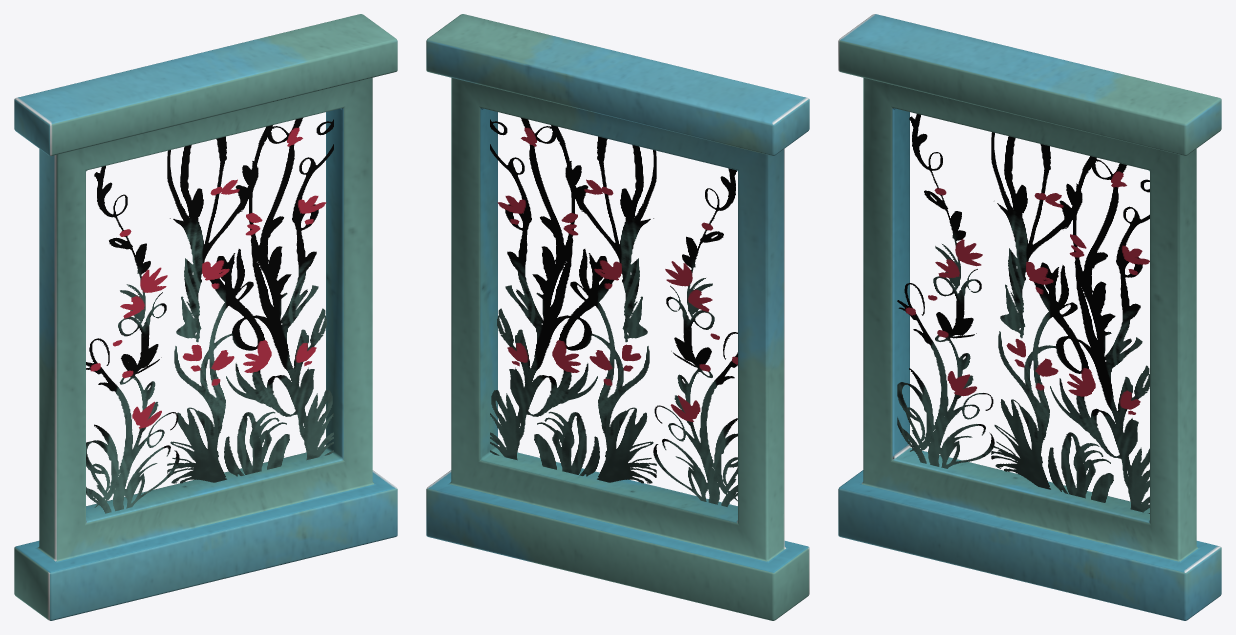
Rendered from TOMB_WINDOW_2.obj.
3 views of the same model, side by side, from view 1: azimuth 30°, elevation 25°; view 2: azimuth 150°, elevation 25°; view 3: azimuth 330°, elevation 25° (orthographic).
Parts seen in each view (by area): view 1: TOMB_WINDOW_2.002; view 2: TOMB_WINDOW_2.002; view 3: TOMB_WINDOW_2.002.
Part boxes in pixels (x1,y1,x2,y2): TOMB_WINDOW_2.002: (14,14,397,620); TOMB_WINDOW_2.002: (426,14,809,620); TOMB_WINDOW_2.002: (838,14,1221,620).
Bounding box in the file's own units: 2.2 × 3 × 0.4.
3 materials, 3 textured.
